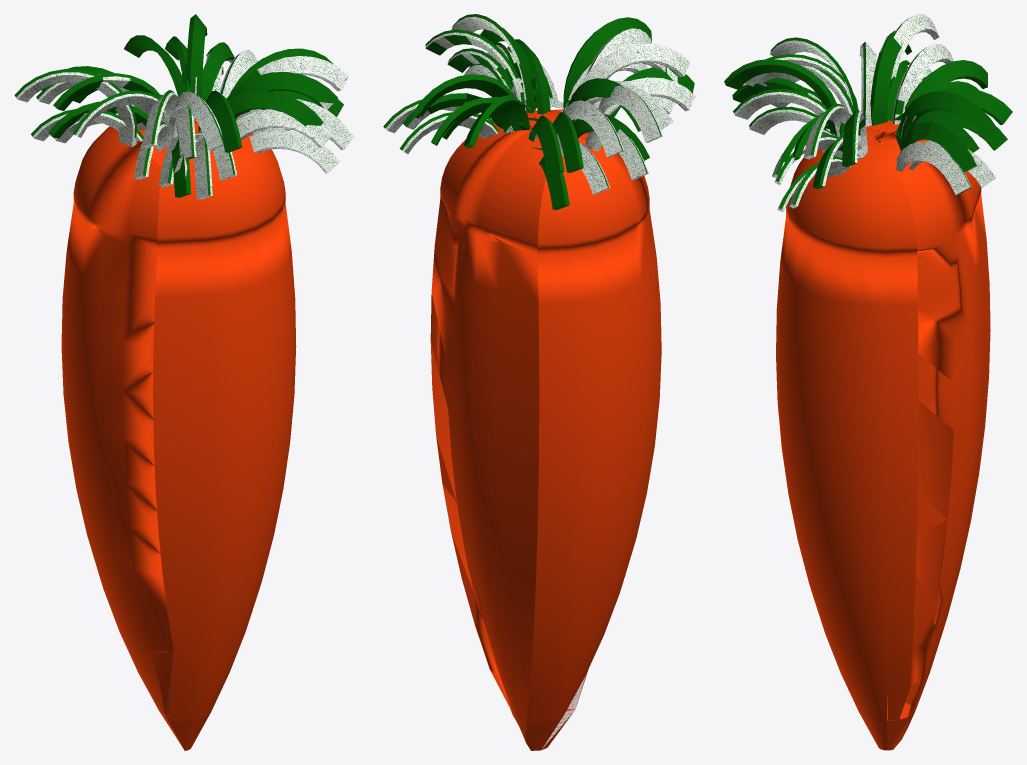
The model's file is Carrot_1.fbx.
3 views of the same model, side by side, from view 1: azimuth 30°, elevation 25°; view 2: azimuth 150°, elevation 25°; view 3: azimuth 270°, elevation 25° (orthographic). The views are drawn at different scales.
Parts seen in each view (by area): view 1: Model; view 2: Model; view 3: Model.
Boxes of the visible parts, box(x1,y1,x2,y2) form: Model: box(14, 14, 354, 750); Model: box(383, 14, 695, 750); Model: box(724, 14, 1012, 750).
Bounding box in the file's own units: 36.62 × 87.66 × 33.79.
